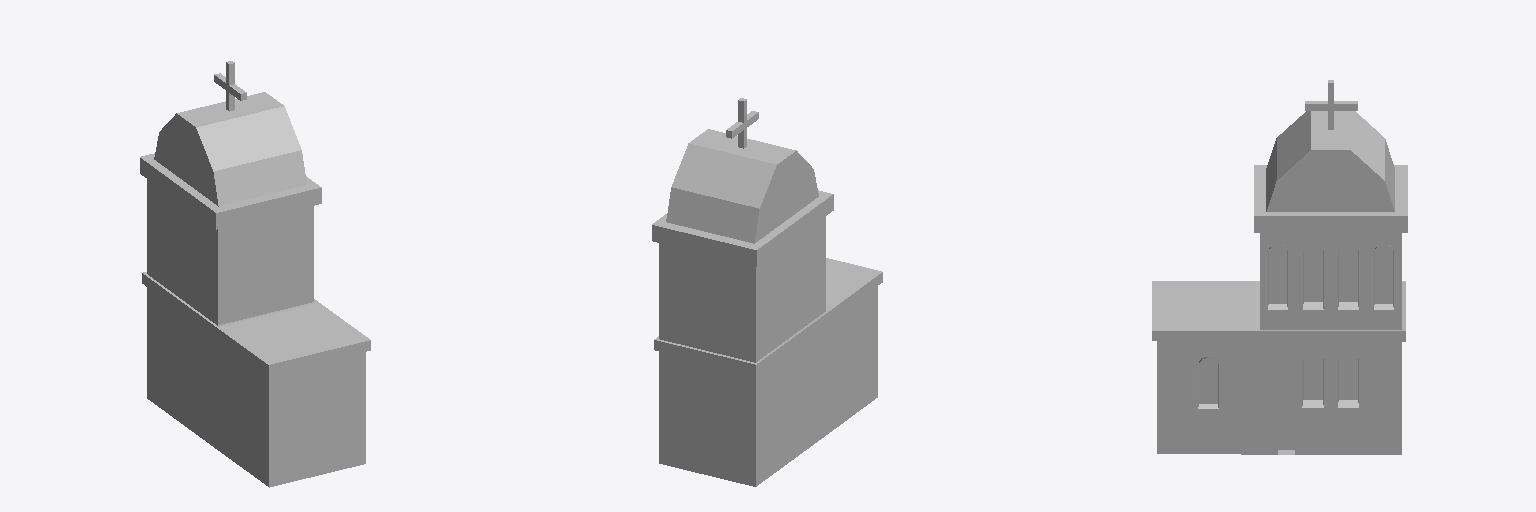
File: EDIFICIO 3.obj
3 renders of one model, left to right at view 1: azimuth 30°, elevation 25°; view 2: azimuth 150°, elevation 25°; view 3: azimuth 270°, elevation 25°, orthographic.
Visible parts, largest first — view 1: Cube.006; view 2: Cube.006; view 3: Cube.006.
Part boxes in pixels (bbox=[...]): Cube.006: bbox=[140, 61, 370, 487]; Cube.006: bbox=[652, 98, 882, 486]; Cube.006: bbox=[1152, 80, 1407, 454].
Size of the model in its own units: 2279 by 7236 by 4786.